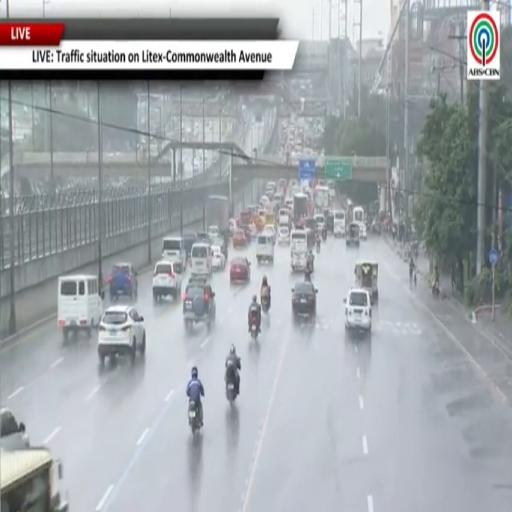bus: (0, 448, 68, 511), (315, 186, 330, 212)
car: (98, 306, 145, 365), (183, 278, 215, 330), (0, 408, 29, 451), (344, 288, 371, 332), (152, 261, 181, 301), (108, 263, 137, 300), (292, 281, 317, 321), (230, 258, 250, 282), (211, 237, 228, 259), (183, 233, 197, 259), (212, 246, 225, 269), (262, 224, 276, 244), (233, 229, 247, 248), (278, 227, 290, 246), (207, 225, 219, 239)
jeepney: (355, 261, 378, 303)
motorcycle: (188, 400, 201, 434), (226, 379, 237, 404), (251, 314, 258, 341), (261, 295, 269, 313), (432, 281, 440, 297), (306, 260, 314, 274), (316, 240, 320, 253), (322, 229, 326, 241)
truck: (204, 196, 229, 239), (294, 194, 308, 222)
